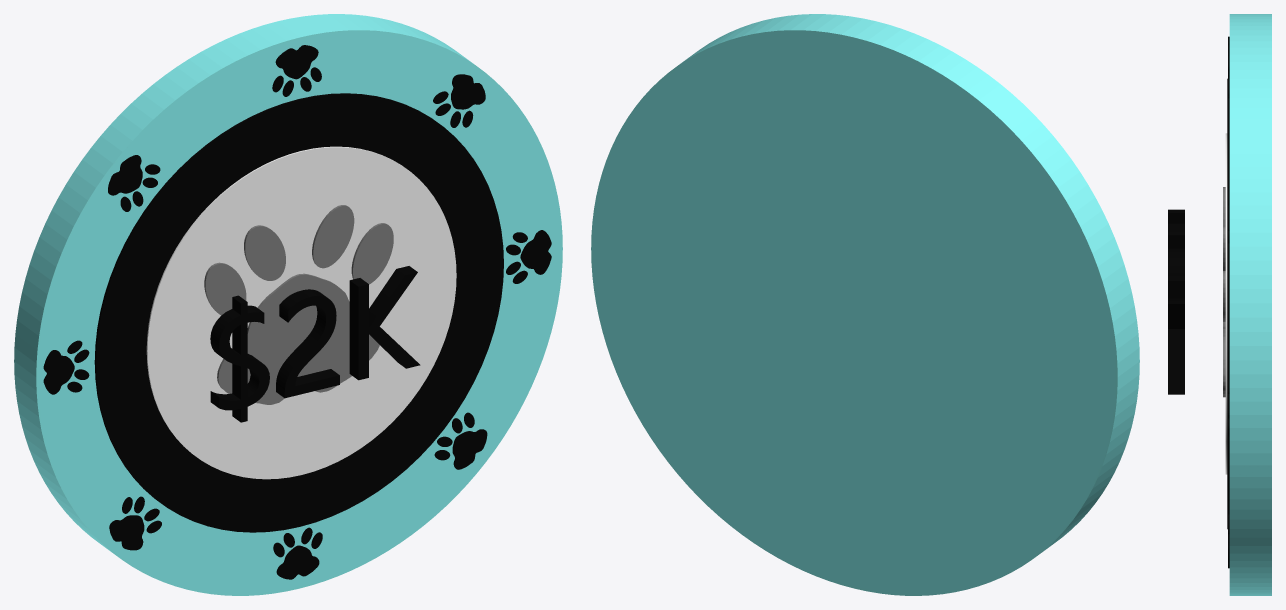
Rendered from Teal paw chip.fbx.
3 renders of one model, left to right at view 1: azimuth 30°, elevation 25°; view 2: azimuth 150°, elevation 25°; view 3: azimuth 270°, elevation 25°, orthographic. The views are drawn at different scales.
Parts seen in each view (by area): view 1: root (×2), node_id4, node_id403, node_id258, node_id260, node_id220, node_id215, node_id231, node_id161, node_id237, node_id242, node_id192 (+1 smaller); view 2: node_id4; view 3: node_id4, node_id403, root (×2), node_id260, node_id258.
Boxes of the visible parts, <box> form: root (×2): <box>94,93,503,532</box>; node_id4: <box>14,14,562,595</box>; node_id403: <box>210,266,420,422</box>; node_id258: <box>217,273,379,404</box>; node_id260: <box>204,205,393,315</box>; node_id220: <box>452,429,487,469</box>; node_id215: <box>108,155,142,195</box>; node_id231: <box>109,515,144,550</box>; node_id161: <box>276,545,319,579</box>; node_id237: <box>520,230,551,274</box>; node_id242: <box>43,350,74,394</box>; node_id192: <box>275,45,318,79</box>; node_id4: <box>591,14,1139,595</box>; node_id4: <box>1229,14,1271,595</box>; node_id403: <box>1168,209,1184,394</box>; root (×2): <box>1225,78,1229,529</box>; node_id260: <box>1223,187,1225,321</box>; node_id258: <box>1223,322,1225,397</box>.
Size of the model in its own units: 0.5155 by 0.5155 by 0.0921.
Materials: 22 (19 with a texture image).
